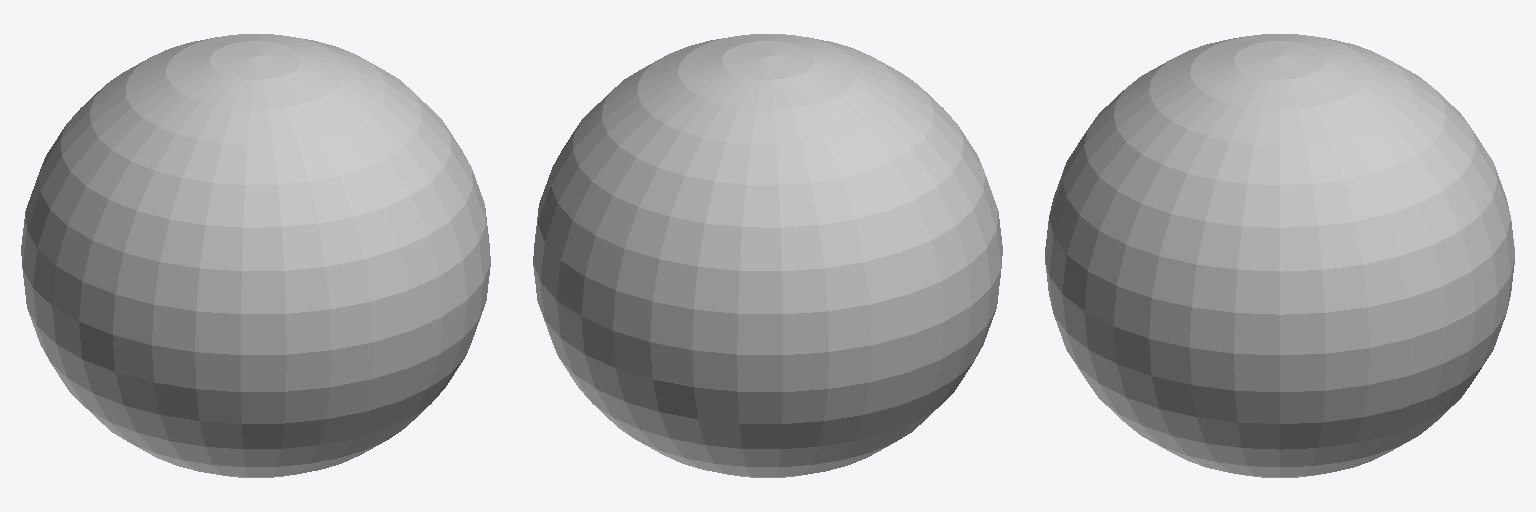
Rendered from earth.obj.
3 views of the same model, side by side, from view 1: azimuth 30°, elevation 25°; view 2: azimuth 150°, elevation 25°; view 3: azimuth 270°, elevation 25° (orthographic).
Visible parts, largest first — view 1: 球体_球体.001; view 2: 球体_球体.001; view 3: 球体_球体.001.
Part boxes in pixels (x1,y1,x2,y2): 球体_球体.001: (21,34,490,477); 球体_球体.001: (533,34,1002,477); 球体_球体.001: (1045,34,1514,477).
Bounding box in the file's own units: 2.14 × 2 × 2.14.